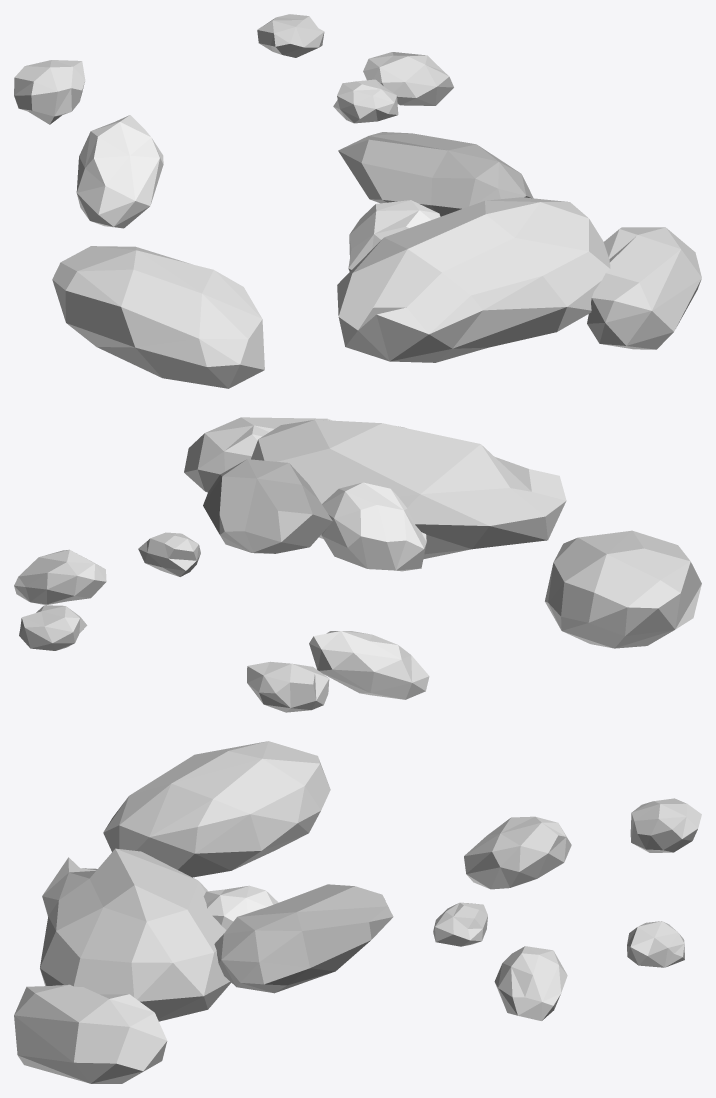
The model's file is stones_021.glb.
3 renders of one model, top to bottom at view 1: azimuth 30°, elevation 25°; view 2: azimuth 150°, elevation 25°; view 3: azimuth 270°, elevation 25°, orthographic.
Visible parts, largest first — view 1: stones_021; view 2: stones_021; view 3: stones_021.
Part boxes in pixels (<box>): stones_021: <box>14,14,701,388</box>; stones_021: <box>14,417,701,712</box>; stones_021: <box>14,741,701,1083</box>.
Bounding box in the file's own units: 9.95 × 2.15 × 10.62.
1 material, 1 textured.
